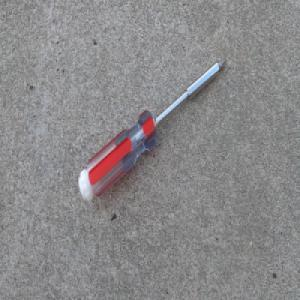Screwdriver: (77, 58, 228, 205)
